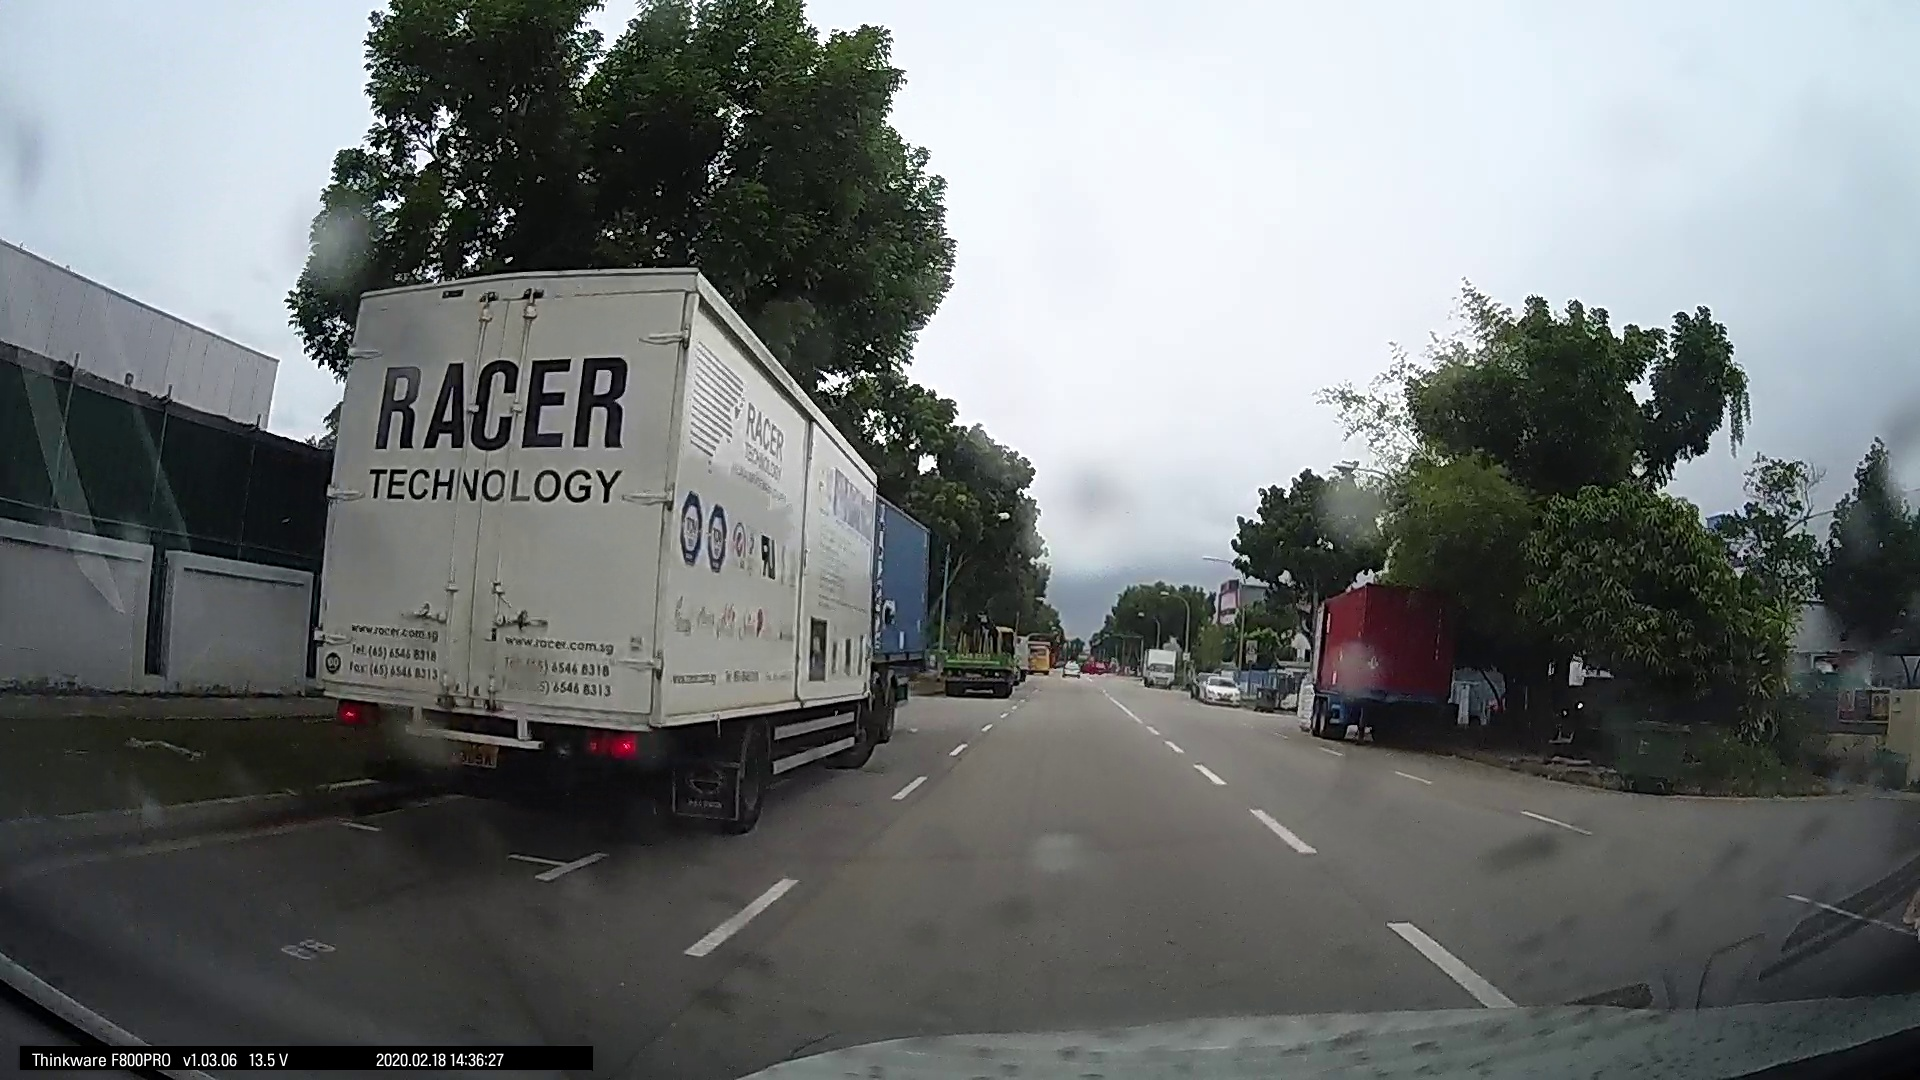Heavy Vehicle: (303, 266, 898, 824), (1295, 575, 1472, 750)
